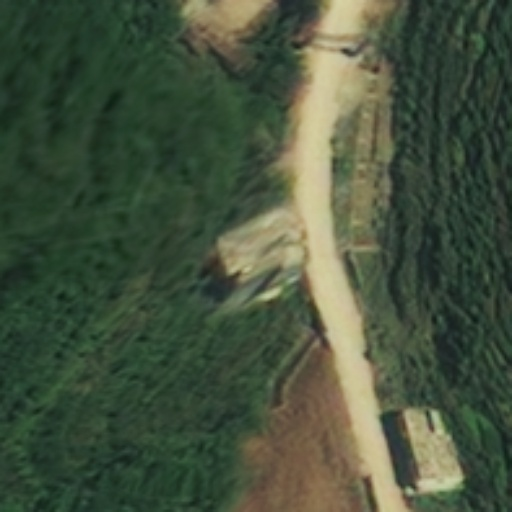landslide: (209, 210, 300, 309)
